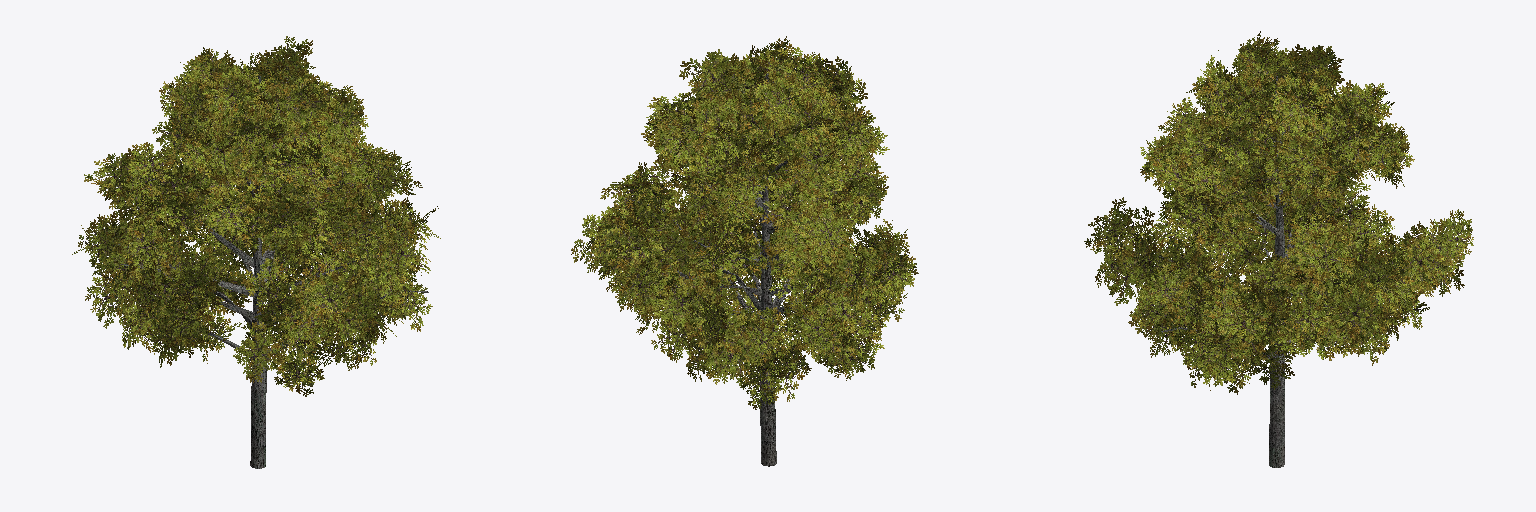
3 views of the same model, side by side, from view 1: azimuth 30°, elevation 25°; view 2: azimuth 150°, elevation 25°; view 3: azimuth 270°, elevation 25° (orthographic).
Visible parts, largest first — view 1: Foliage__leafcard, Bark; view 2: Foliage__leafcard, Bark; view 3: Foliage__leafcard, Bark.
Part boxes in pixels (bbox=[...]): Foliage__leafcard: bbox=[72, 36, 440, 396]; Bark: bbox=[94, 76, 428, 468]; Foliage__leafcard: bbox=[571, 36, 918, 409]; Bark: bbox=[620, 59, 845, 466]; Foliage__leafcard: bbox=[1084, 31, 1473, 394]; Bark: bbox=[1117, 70, 1433, 467].
Bounding box in the file's own units: 17.05 × 20 × 17.26.
2 materials, 2 textured.